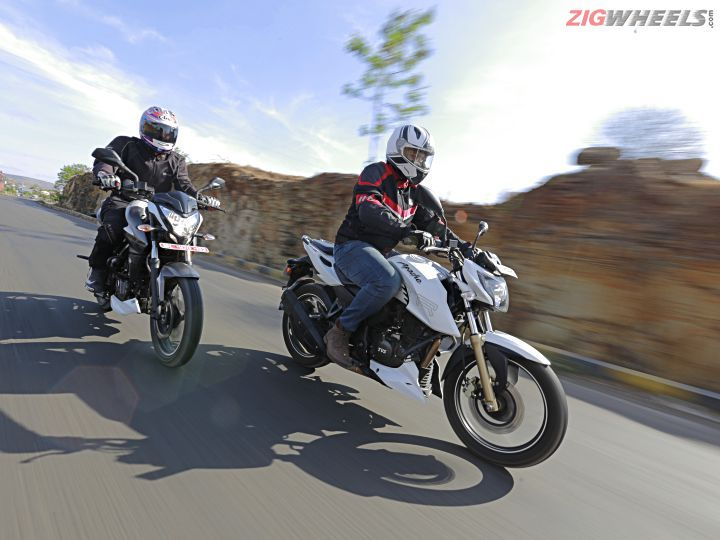helmet: (387, 125, 432, 173), (136, 104, 176, 151)
